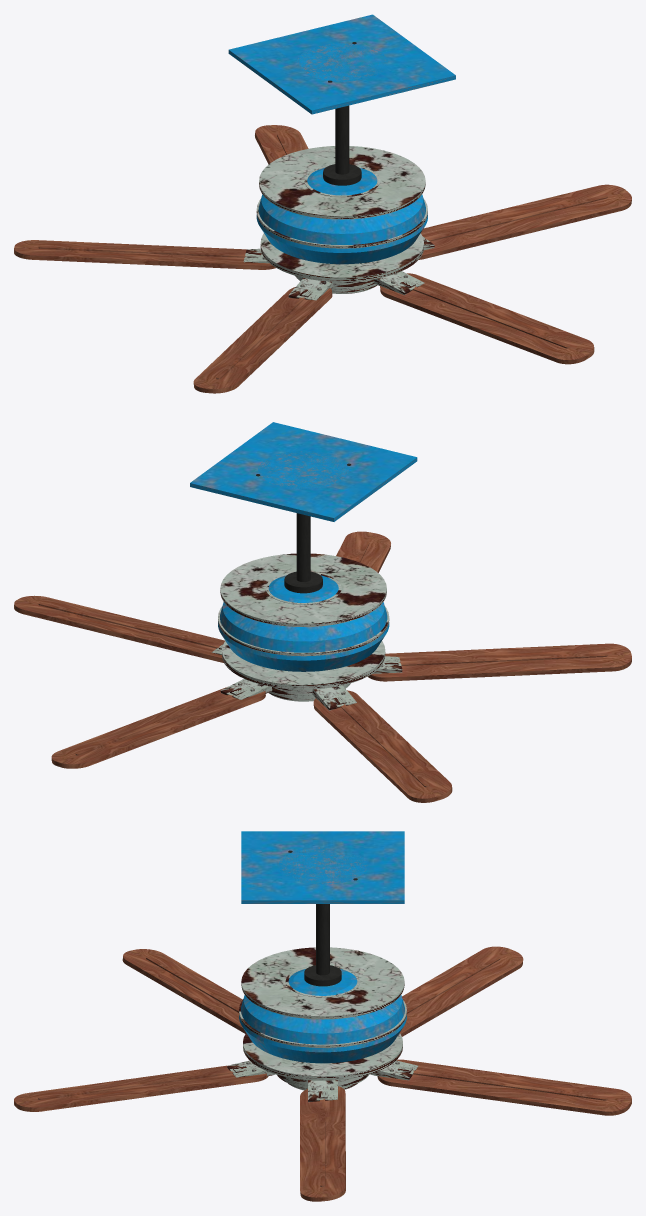
File: ceiling_fan__0007.glb
3 views of the same model, one above another, from view 1: azimuth 30°, elevation 25°; view 2: azimuth 150°, elevation 25°; view 3: azimuth 270°, elevation 25° (orthographic). The views are drawn at different scales.
Visible parts, largest first — view 1: ceiling_mount::square_ceiling_plate, motor_housing::motor_shell, motor_housing::upper_trim_ring, blade_assembly::blade_surface_4, blade_assembly::blade_surface_0, blade_assembly::blade_surface_3, blade_assembly::blade_surface_2, motor_housing::lower_trim_ring, ceiling_mount::flat_canopy_boss, blade_assembly::blade_surface_1, ceiling_mount::downrod, motor_housing::center_shadow_band (+3 smaller); view 2: ceiling_mount::square_ceiling_plate, motor_housing::motor_shell, motor_housing::upper_trim_ring, blade_assembly::blade_surface_3, blade_assembly::blade_surface_2, blade_assembly::blade_surface_1, blade_assembly::blade_surface_0, motor_housing::lower_trim_ring, ceiling_mount::flat_canopy_boss, blade_assembly::blade_surface_4, ceiling_mount::downrod, motor_housing::center_shadow_band (+3 smaller); view 3: ceiling_mount::square_ceiling_plate, motor_housing::motor_shell, motor_housing::upper_trim_ring, blade_assembly::blade_surface_1, blade_assembly::blade_surface_4, blade_assembly::blade_surface_0, blade_assembly::blade_surface_2, blade_assembly::blade_surface_3, motor_housing::lower_trim_ring, ceiling_mount::flat_canopy_boss, ceiling_mount::downrod, motor_housing::center_shadow_band (+2 smaller).
Boxes of the visible parts, <box> form: ceiling_mount::square_ceiling_plate: <box>228,14,455,114</box>; motor_housing::motor_shell: <box>256,168,427,264</box>; motor_housing::upper_trim_ring: <box>259,146,425,219</box>; blade_assembly::blade_surface_4: <box>380,273,594,364</box>; blade_assembly::blade_surface_0: <box>419,184,631,259</box>; blade_assembly::blade_surface_3: <box>193,287,332,393</box>; blade_assembly::blade_surface_2: <box>14,240,275,269</box>; motor_housing::lower_trim_ring: <box>260,233,423,281</box>; ceiling_mount::flat_canopy_boss: <box>297,43,387,81</box>; blade_assembly::blade_surface_1: <box>255,125,308,164</box>; ceiling_mount::downrod: <box>335,105,349,174</box>; motor_housing::center_shadow_band: <box>256,199,427,248</box>; ceiling_mount::square_ceiling_plate: <box>190,422,417,521</box>; motor_housing::motor_shell: <box>218,575,389,671</box>; motor_housing::upper_trim_ring: <box>220,553,386,626</box>; blade_assembly::blade_surface_3: <box>368,643,631,681</box>; blade_assembly::blade_surface_2: <box>313,690,452,802</box>; blade_assembly::blade_surface_1: <box>51,687,265,768</box>; blade_assembly::blade_surface_0: <box>14,595,224,662</box>; motor_housing::lower_trim_ring: <box>222,641,385,689</box>; ceiling_mount::flat_canopy_boss: <box>258,451,348,489</box>; blade_assembly::blade_surface_4: <box>336,531,390,572</box>; ceiling_mount::downrod: <box>296,513,310,581</box>; motor_housing::center_shadow_band: <box>218,606,389,656</box>; ceiling_mount::square_ceiling_plate: <box>241,831,404,903</box>; motor_housing::motor_shell: <box>239,969,406,1063</box>; motor_housing::upper_trim_ring: <box>241,947,404,1019</box>; blade_assembly::blade_surface_1: <box>377,1059,631,1115</box>; blade_assembly::blade_surface_4: <box>14,1065,267,1111</box>; blade_assembly::blade_surface_0: <box>300,1086,345,1201</box>; blade_assembly::blade_surface_2: <box>400,946,523,1036</box>; blade_assembly::blade_surface_3: <box>122,949,245,1033</box>; motor_housing::lower_trim_ring: <box>243,1033,402,1080</box>; ceiling_mount::flat_canopy_boss: <box>278,847,367,884</box>; ceiling_mount::downrod: <box>316,904,329,975</box>; motor_housing::center_shadow_band: <box>239,999,406,1047</box>.
Size of the model in its own units: 1.63 by 0.686 by 1.71.
Materials: 5 (5 with a texture image).
